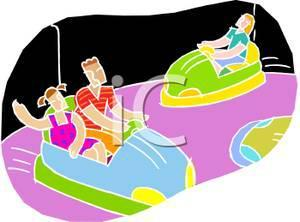car: (26, 91, 197, 212), (152, 39, 264, 106)
person: (6, 78, 107, 167), (69, 52, 149, 132), (195, 10, 256, 65)
